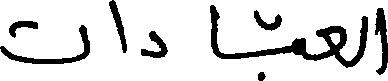X: (0, 16, 89, 68), (316, 21, 345, 71), (108, 0, 126, 57), (141, 26, 165, 62), (376, 3, 387, 79), (210, 0, 217, 61), (292, 33, 305, 63), (359, 11, 365, 65)
